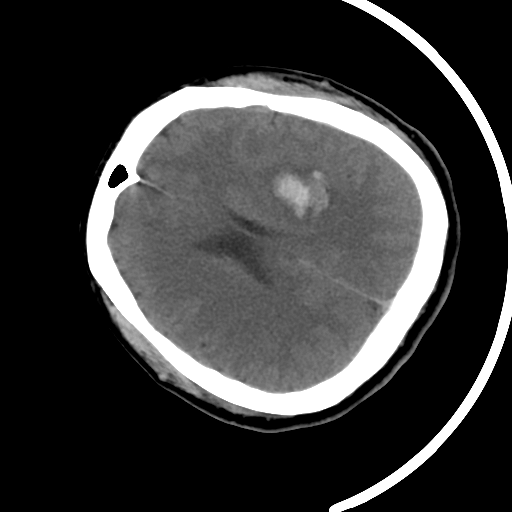a: (247, 152, 350, 236)
